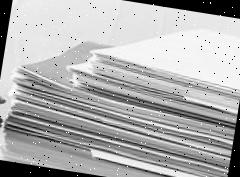paper: (0, 0, 240, 177), (82, 10, 240, 114), (0, 91, 7, 128)
